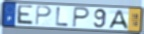9: (93, 8, 106, 28)
A: (107, 9, 129, 30)
E: (16, 4, 35, 26)
L: (55, 7, 70, 27)
P: (72, 6, 91, 29), (35, 5, 53, 26)
